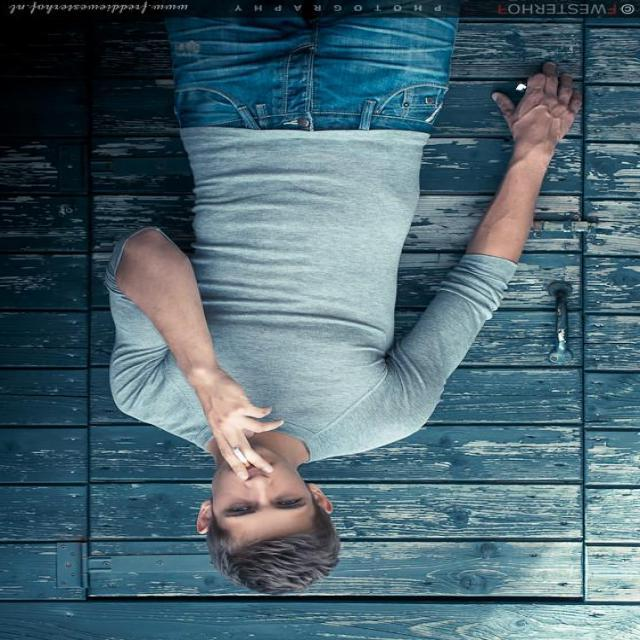cigarette: (225, 432, 262, 478)
